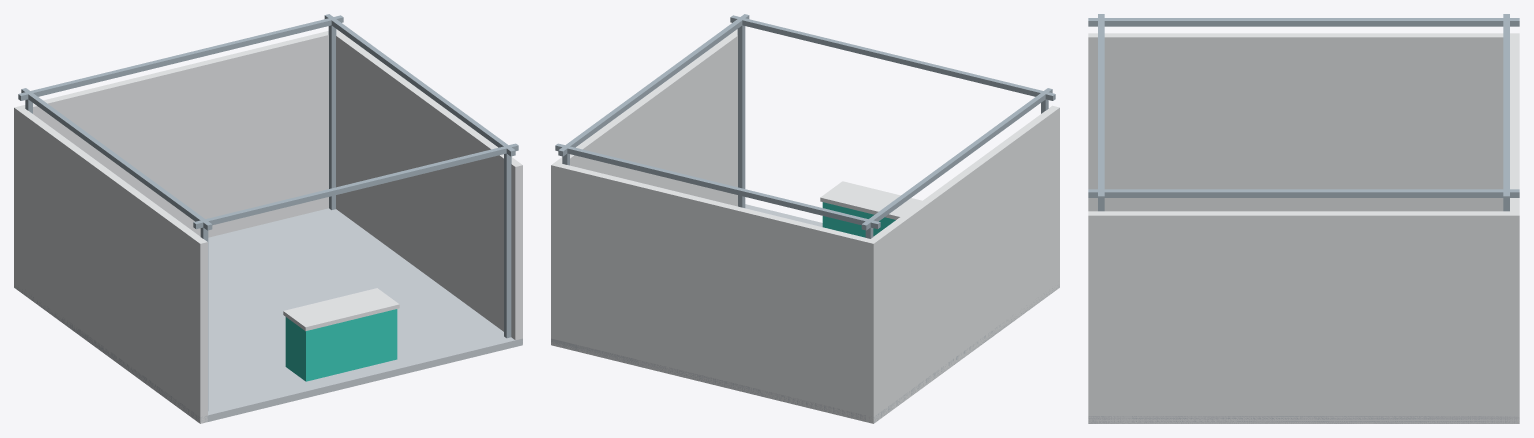
The picture shows the model from 3 angles, left to right: view 1: azimuth 30°, elevation 25°; view 2: azimuth 150°, elevation 25°; view 3: azimuth 270°, elevation 25°; orthographic projection. The views are drawn at different scales.
Parts seen in each view (by area): view 1: Exhibition Booth Concept; view 2: Exhibition Booth Concept; view 3: Exhibition Booth Concept.
Boxes of the visible parts, x1,y1,x2,y2 form: Exhibition Booth Concept: (14,14,522,423); Exhibition Booth Concept: (551,14,1059,423); Exhibition Booth Concept: (1088,14,1519,423).
Bounding box in the file's own units: 6 × 3.49 × 6.
